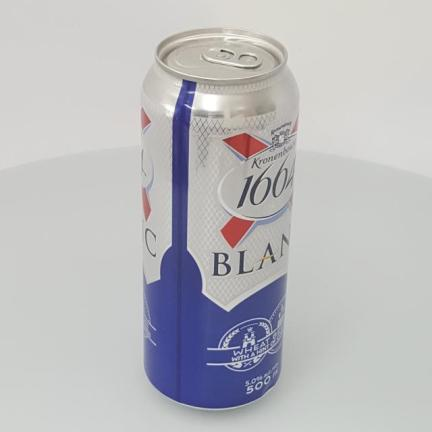can: (143, 29, 300, 409)
